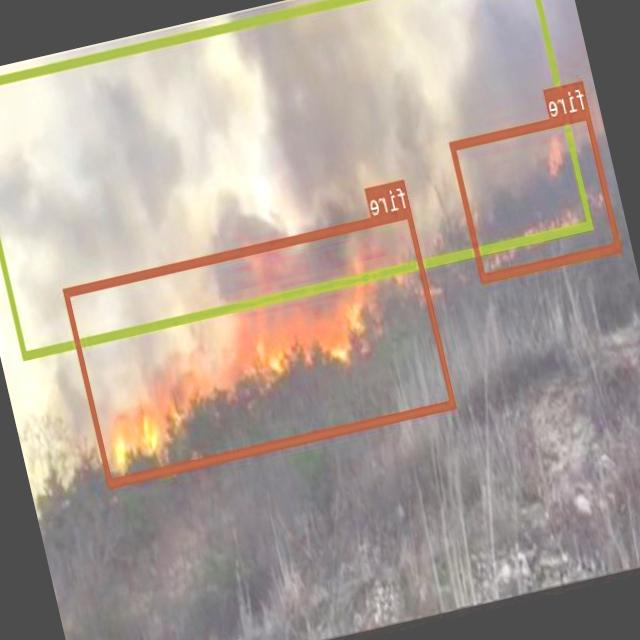fire: (64, 207, 456, 485), (450, 108, 622, 282)
smoke: (0, 0, 593, 357)
